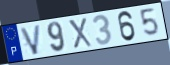3: (92, 13, 115, 47)
5: (138, 7, 161, 38)
6: (116, 11, 136, 43)
9: (47, 20, 68, 53)
V: (19, 23, 42, 56)
X: (67, 17, 93, 50)
